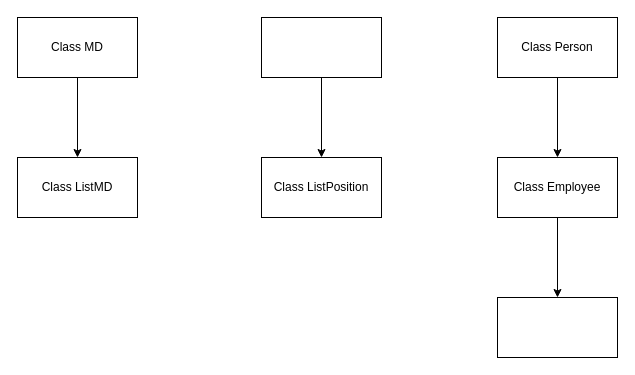
This 635x375 diagram has some shape labels left out. The box of each missing label's shape, as (x1, y1, x2, y2) in pixels:
Class ListEmployee: (496, 296, 618, 358)
Class Position: (260, 16, 382, 78)
